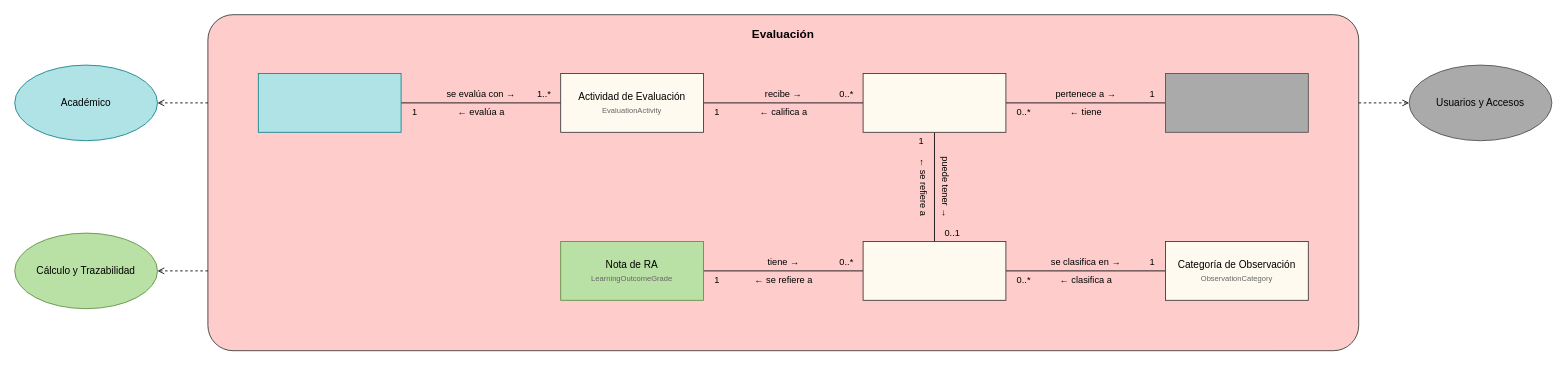
The diagram is 1567 pixels wide and 365 high, and some of its shapes have lost their labels. The box of each missing label's shape, as (x1, y1, x2, y2) in pixels:
Nota de Actividad ActivityGrade: (862, 73, 1006, 132)
Observación Observation: (862, 241, 1006, 300)
Resultado de Aprendizaje (RA) LearningOutcome: (257, 73, 401, 132)
Usuario User: (1165, 73, 1308, 132)
